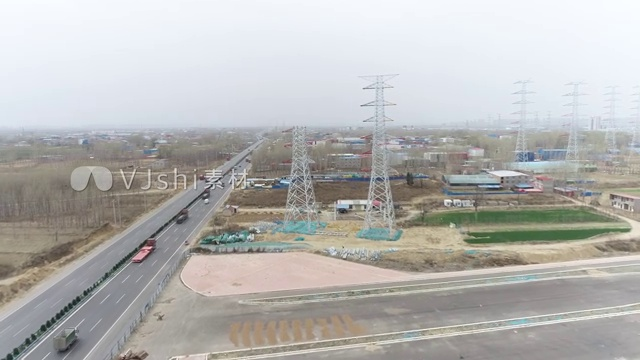tower_body: (354, 70, 411, 238), (284, 118, 323, 233), (561, 78, 584, 168), (510, 77, 532, 170)
tower_foot: (362, 192, 395, 235), (286, 195, 317, 229)
tower_head: (359, 73, 403, 92)
